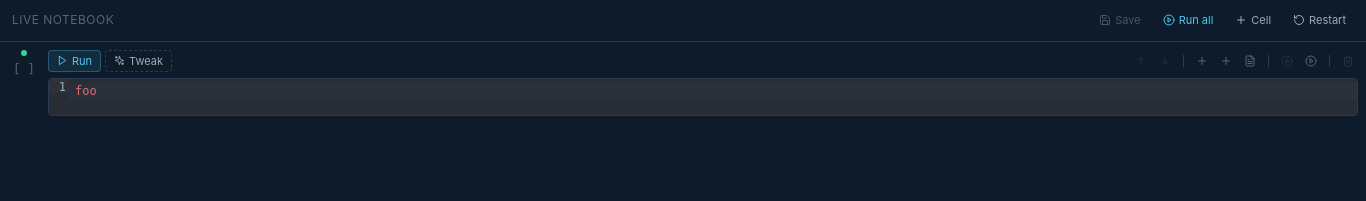
Test case: LivePanel › surfaces an error output when HTTP says the cell failed and WS delivered nothing
Step 1. Click the button with aria-label "Run cell" → (75, 61), box [48,50,101,72]
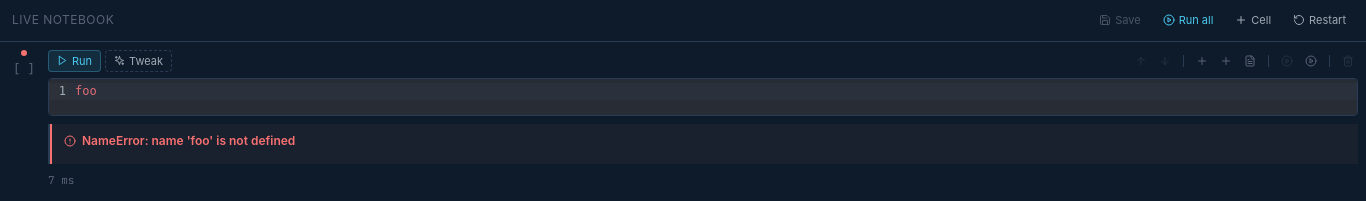
Result: the text "NameError: name 'foo' is not defined" is shown at [82,132,295,150]
